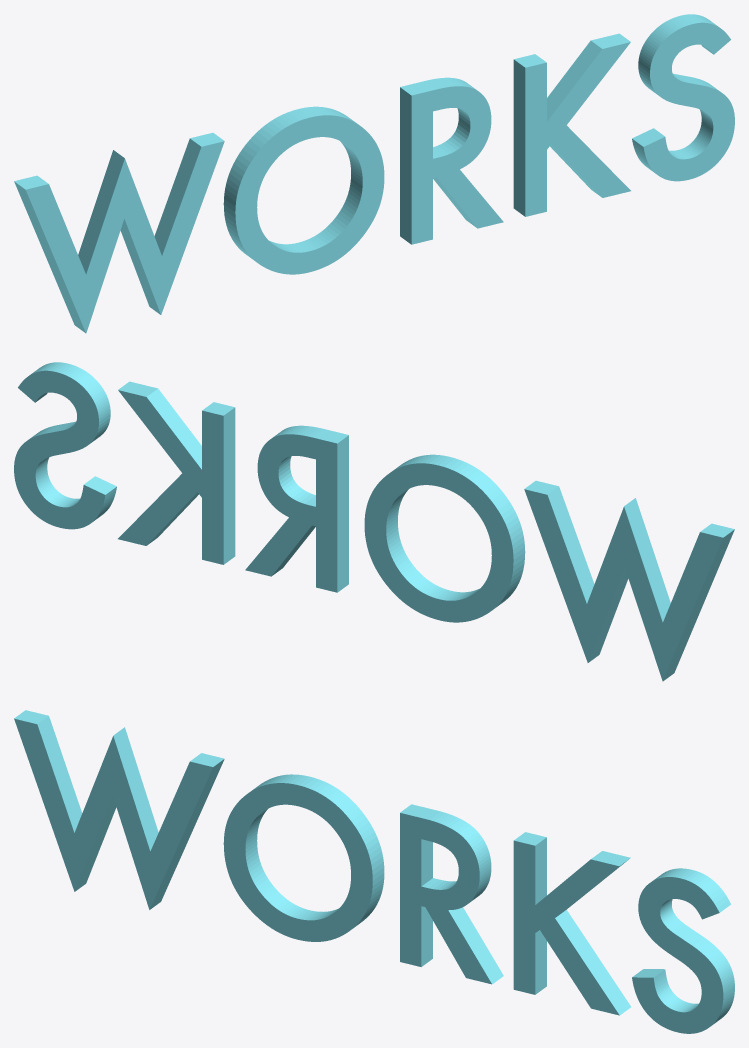
File: works.glb
3 renders of one model, top to bottom at view 1: azimuth 30°, elevation 25°; view 2: azimuth 150°, elevation 25°; view 3: azimuth 330°, elevation 25°, orthographic.
Parts seen in each view (by area): view 1: テキスト.001; view 2: テキスト.001; view 3: テキスト.001.
Part boxes in pixels (x1,y1,x2,y2): テキスト.001: (14, 14, 734, 333); テキスト.001: (14, 362, 734, 681); テキスト.001: (14, 710, 734, 1033).
Bounding box in the file's own units: 15.94 × 3.57 × 0.4538.
